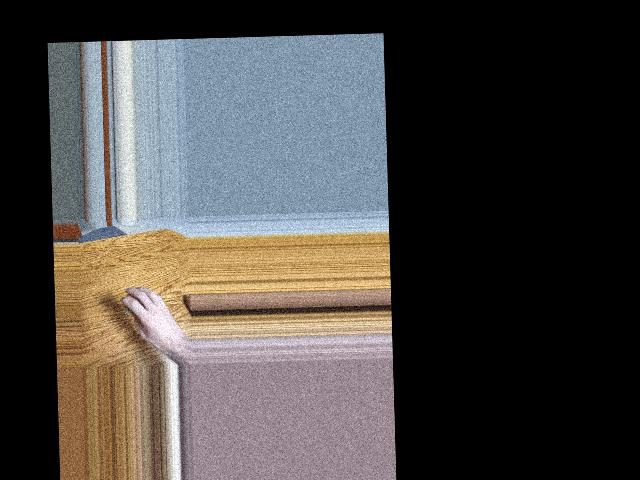onion: (122, 291, 148, 317)
